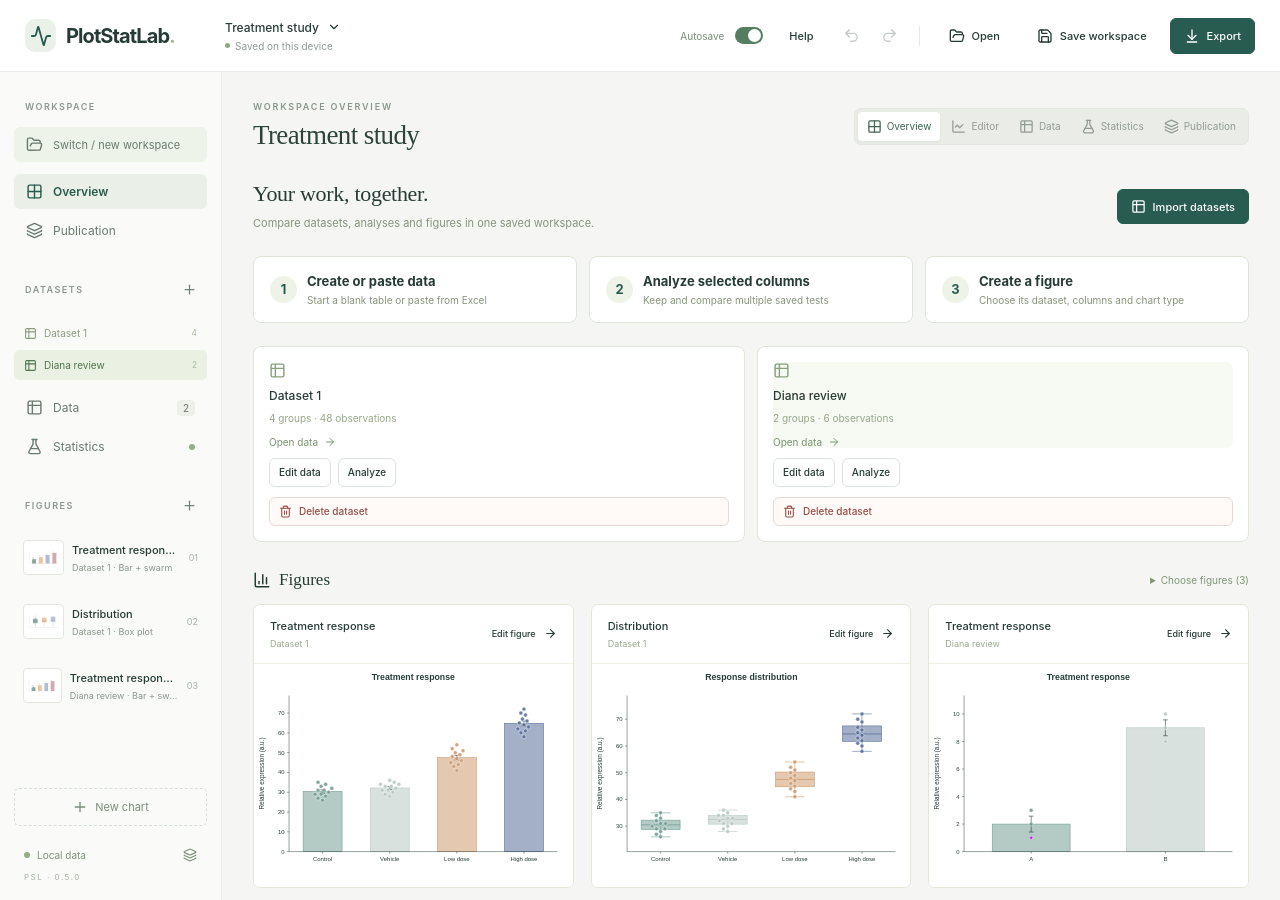
Test: offers a visible dataset deletion review, supports cancellation and restores all dependent work with one Undo
Later steps or results of the test are not shown.
Expected: the button with aria-label "Delete dataset Diana review" is shown, [773,497,1233,526]
Step 1. Click the button "Data" → (1040, 126), box [1010,112,1070,140]
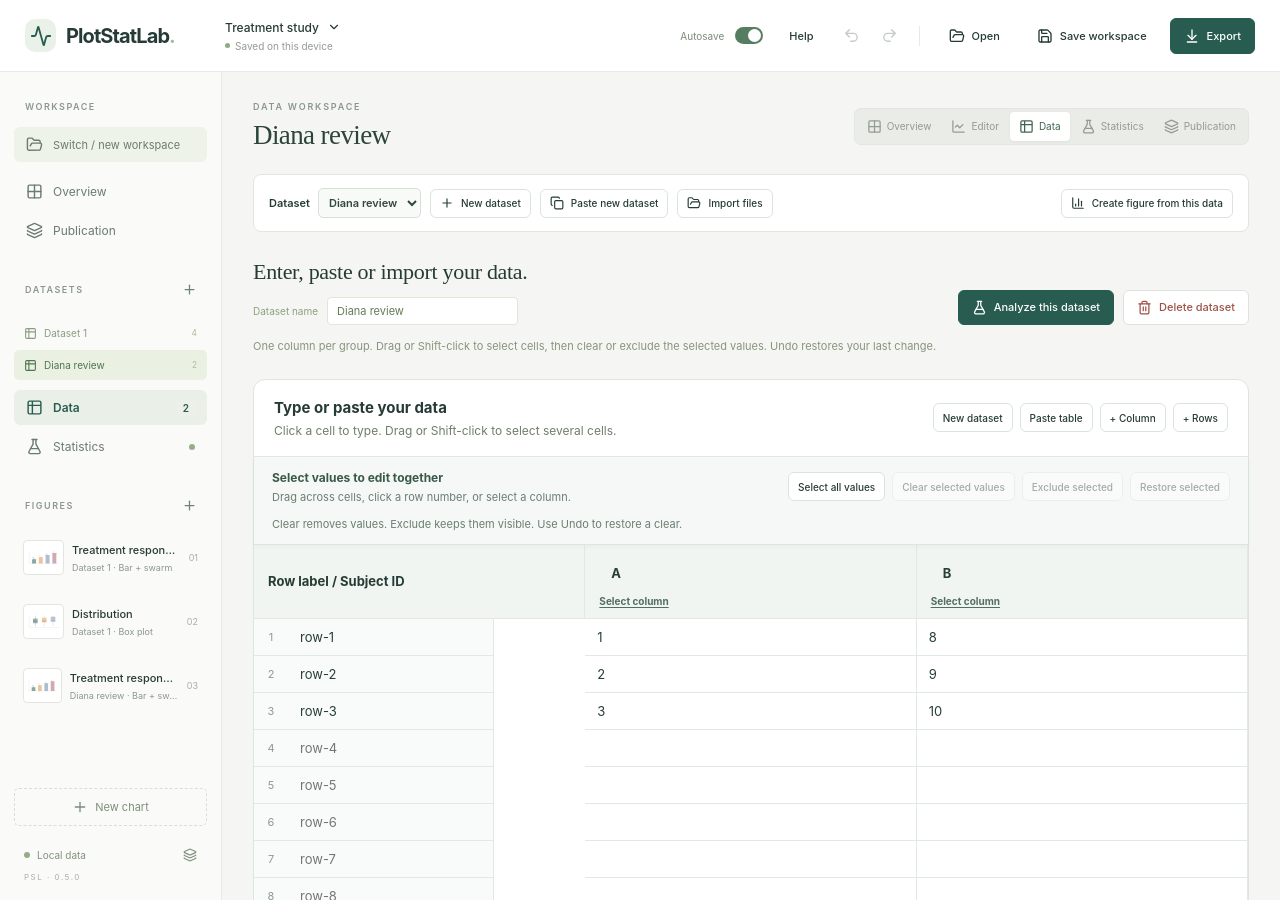
Step 2. Click the button "Delete dataset" → (1186, 307), box [1123,290,1249,325]
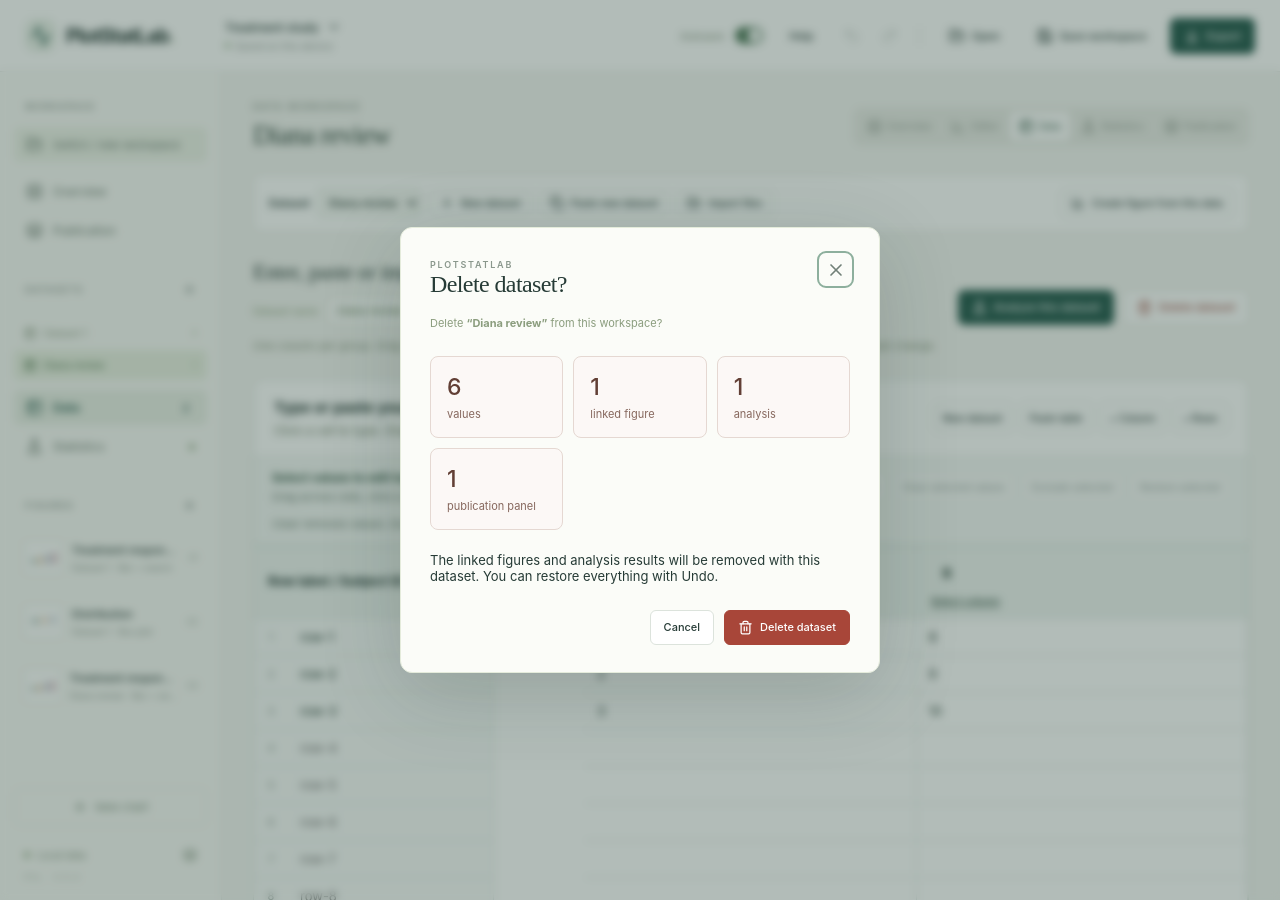
Expected: the heading "Delete dataset?" is shown, [430,271,567,298]
Expected: the dialog shows "Diana review", [472,316,541,330]
Expected: the button "Cancel" is shown
Step 3. Click the button "Cancel" → (682, 627), box [650,610,714,645]
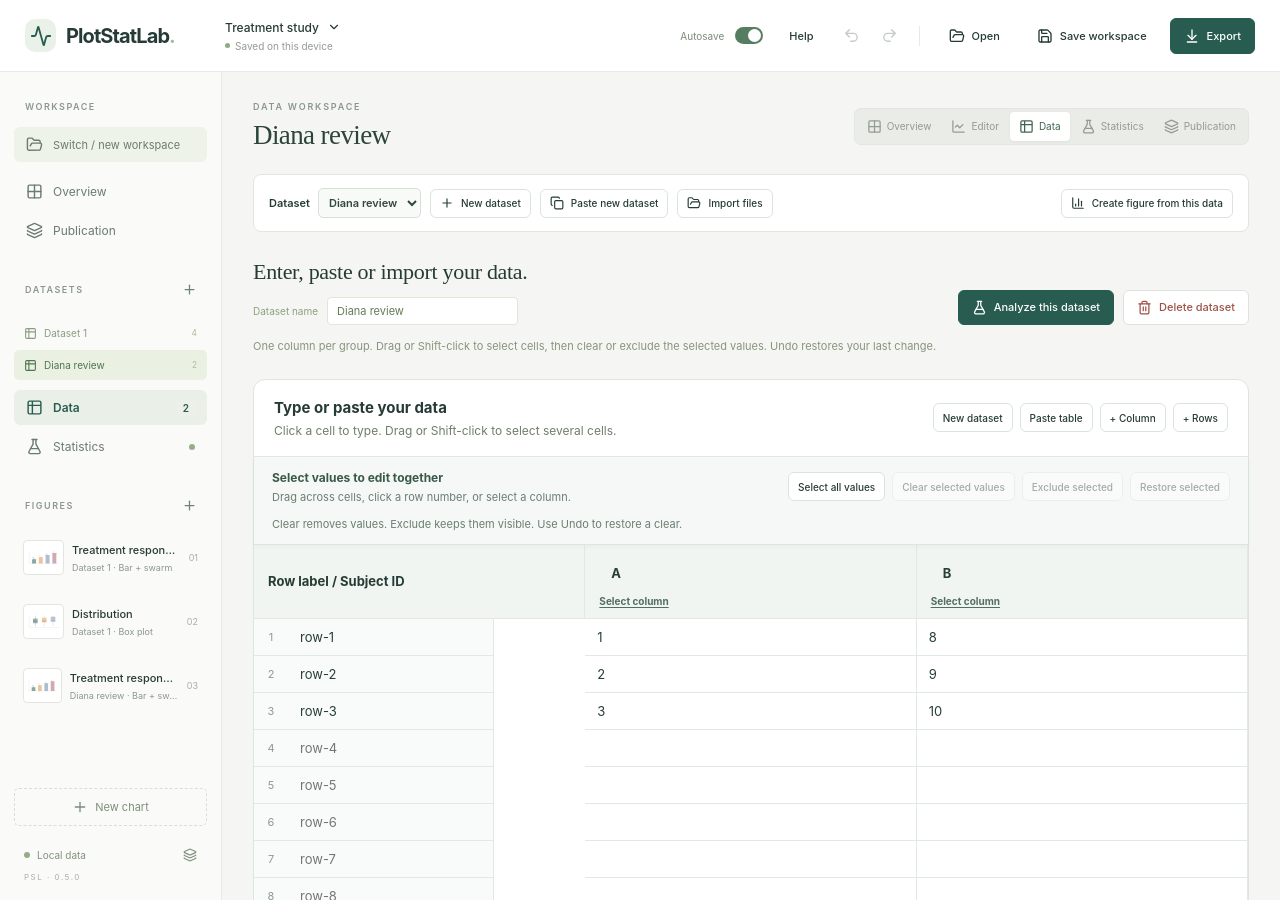
Step 4. Click the button "Delete dataset" → (1186, 307), box [1123,290,1249,325]
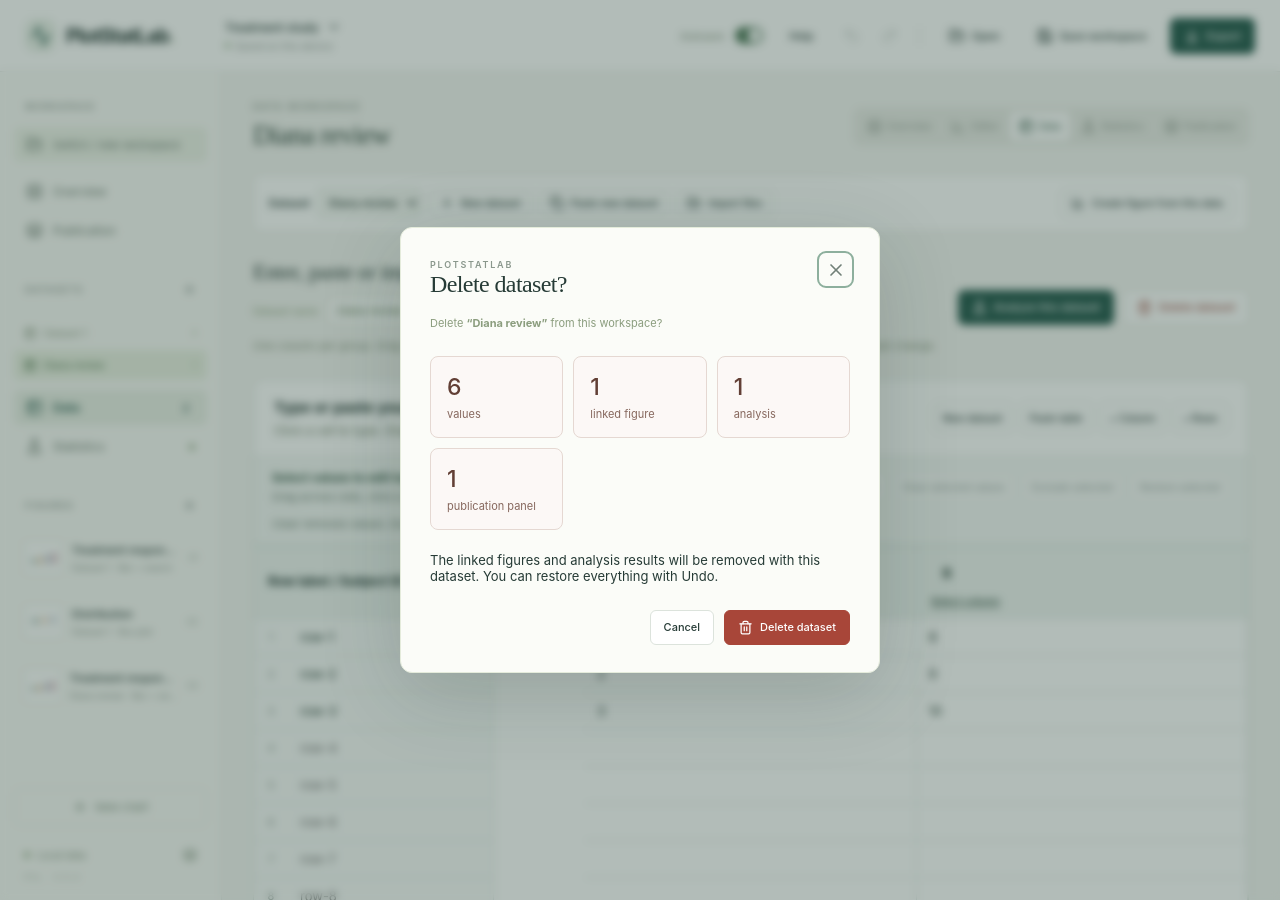
Expected: the button "Delete dataset" is shown
Step 5. Click the button "Delete dataset" → (787, 627), box [724,610,850,645]
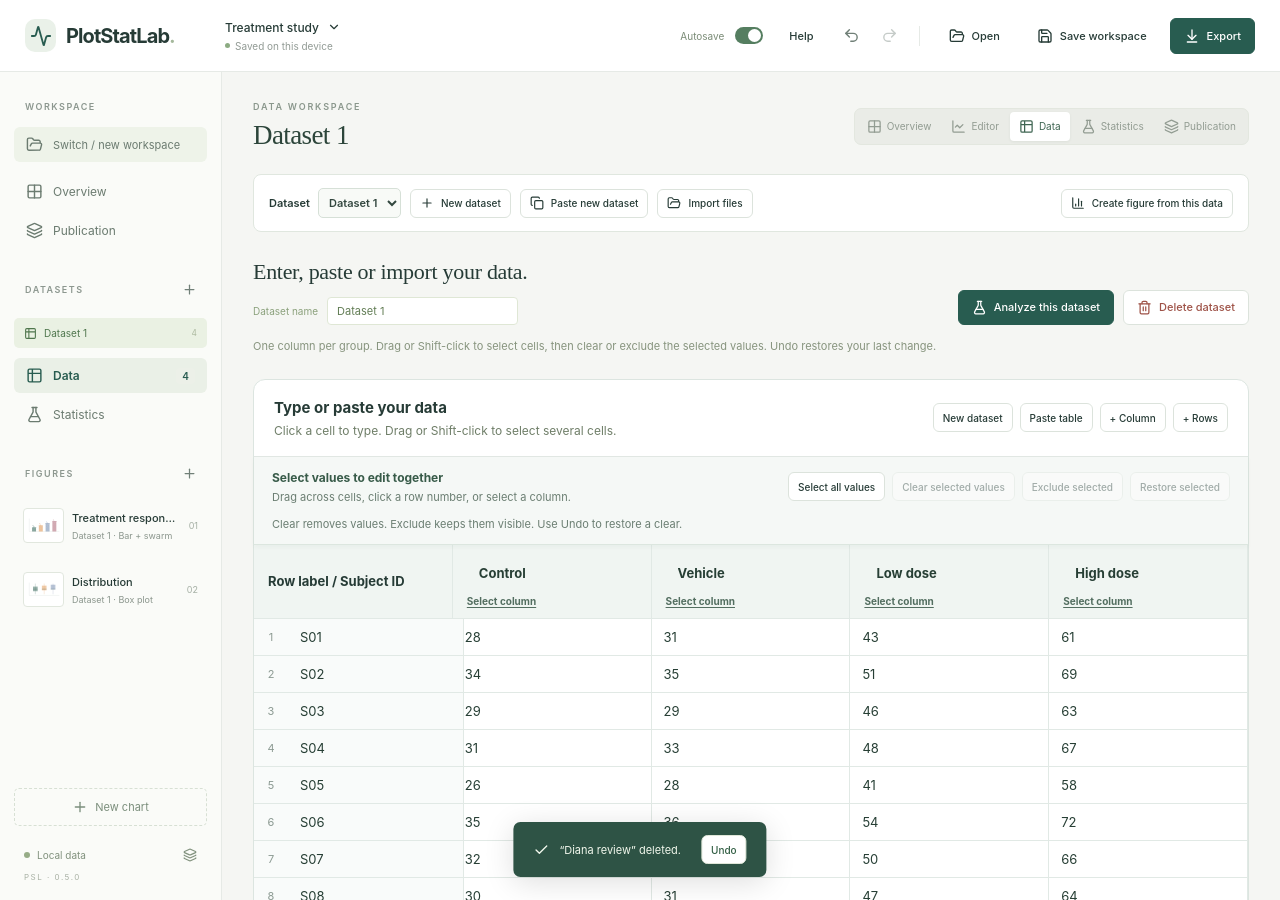
Expected: the button "Undo" is shown, [701,835,747,864]
